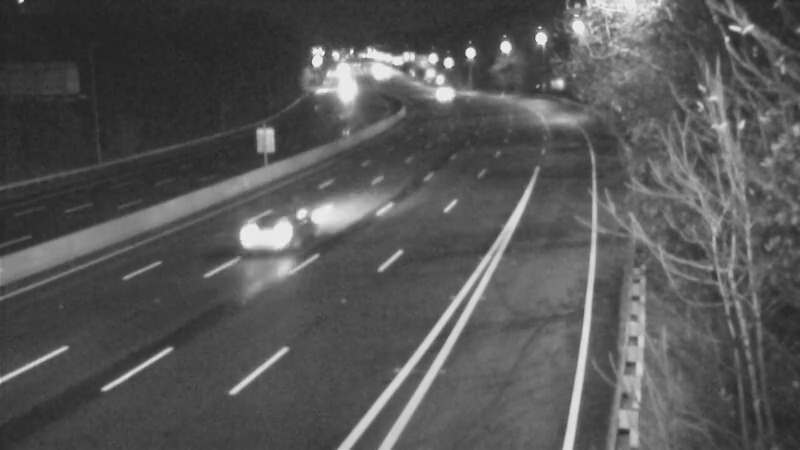vehicle: (239, 195, 319, 275), (418, 65, 468, 115)
